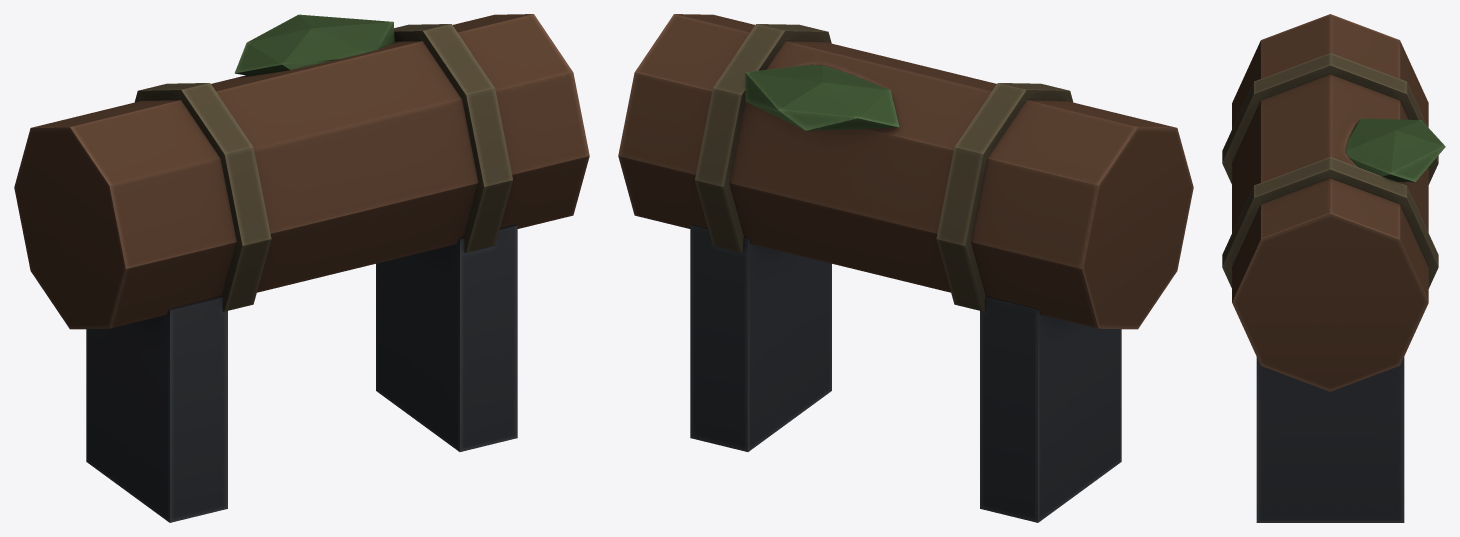
The model's file is rock_pipe.glb.
The picture shows the model from 3 angles, left to right: view 1: azimuth 30°, elevation 25°; view 2: azimuth 150°, elevation 25°; view 3: azimuth 270°, elevation 25°; orthographic projection. The views are drawn at different scales.
Parts seen in each view (by area): view 1: rock_pipe; view 2: rock_pipe; view 3: rock_pipe.
Part boxes in pixels (box(x1,y1,x2,y2)): rock_pipe: box(14, 14, 589, 522); rock_pipe: box(618, 14, 1193, 522); rock_pipe: box(1222, 14, 1445, 522).
Size of the model in its own units: 0.96 by 0.77 by 0.4544.
1 material, 1 textured.
